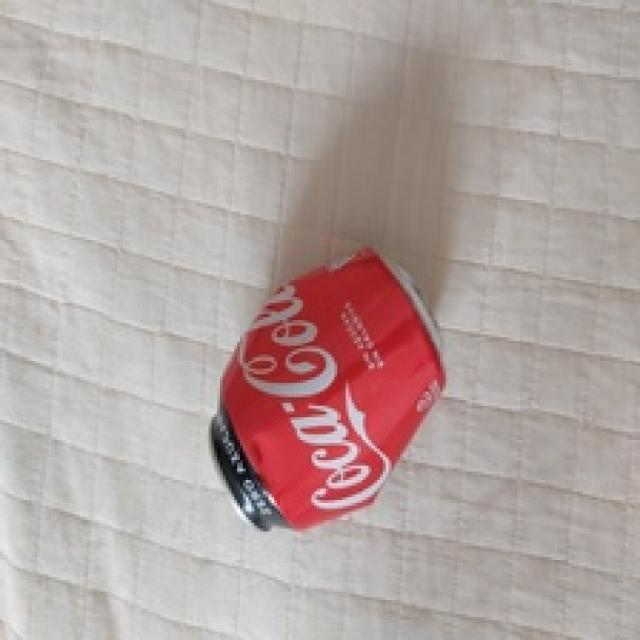recyclable: (208, 243, 444, 532)
